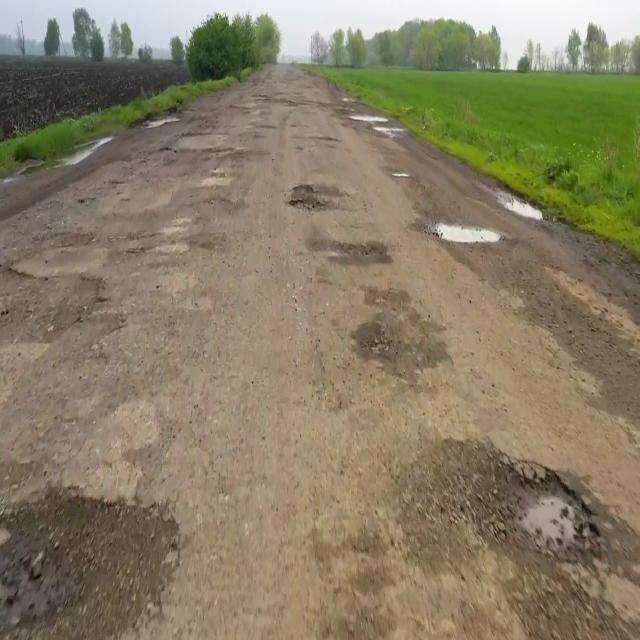road-pothole: (6, 491, 107, 625), (489, 473, 599, 558), (4, 257, 104, 343), (5, 129, 116, 177), (501, 184, 543, 226), (429, 225, 503, 248), (289, 188, 337, 216), (134, 104, 183, 127), (353, 114, 406, 135)
